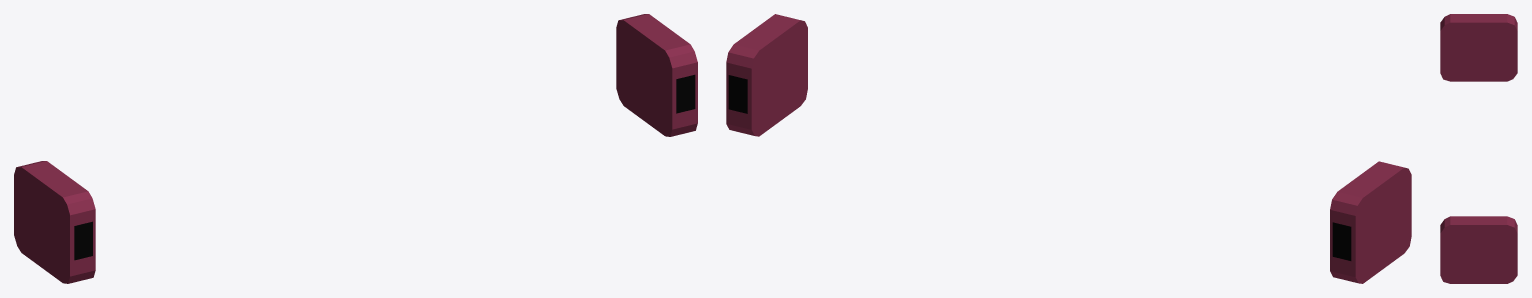
The model's file is lms-lookouts.dae.
3 views of the same model, side by side, from view 1: azimuth 30°, elevation 25°; view 2: azimuth 150°, elevation 25°; view 3: azimuth 270°, elevation 25° (orthographic). The views are drawn at different scales.
Parts seen in each view (by area): view 1: Cube_006, Cube_007, Plane_510, Plane_507; view 2: Cube_006, Cube_007, Plane_509, Plane_508; view 3: Cube_007, Cube_006.
Part boxes in pixels (x1=…): Cube_006: x1=14, y1=161, x2=95, y2=283; Cube_007: x1=616, y1=14, x2=697, y2=136; Plane_510: x1=676, y1=74, x2=695, y2=113; Plane_507: x1=74, y1=221, x2=92, y2=260; Cube_006: x1=1330, y1=161, x2=1411, y2=283; Cube_007: x1=726, y1=14, x2=807, y2=136; Plane_509: x1=728, y1=75, x2=747, y2=113; Plane_508: x1=1332, y1=222, x2=1351, y2=260; Cube_007: x1=1440, y1=216, x2=1517, y2=283; Cube_006: x1=1440, y1=14, x2=1517, y2=81.
Bounding box in the file's own units: 2.33 × 0.3612 × 0.304.
